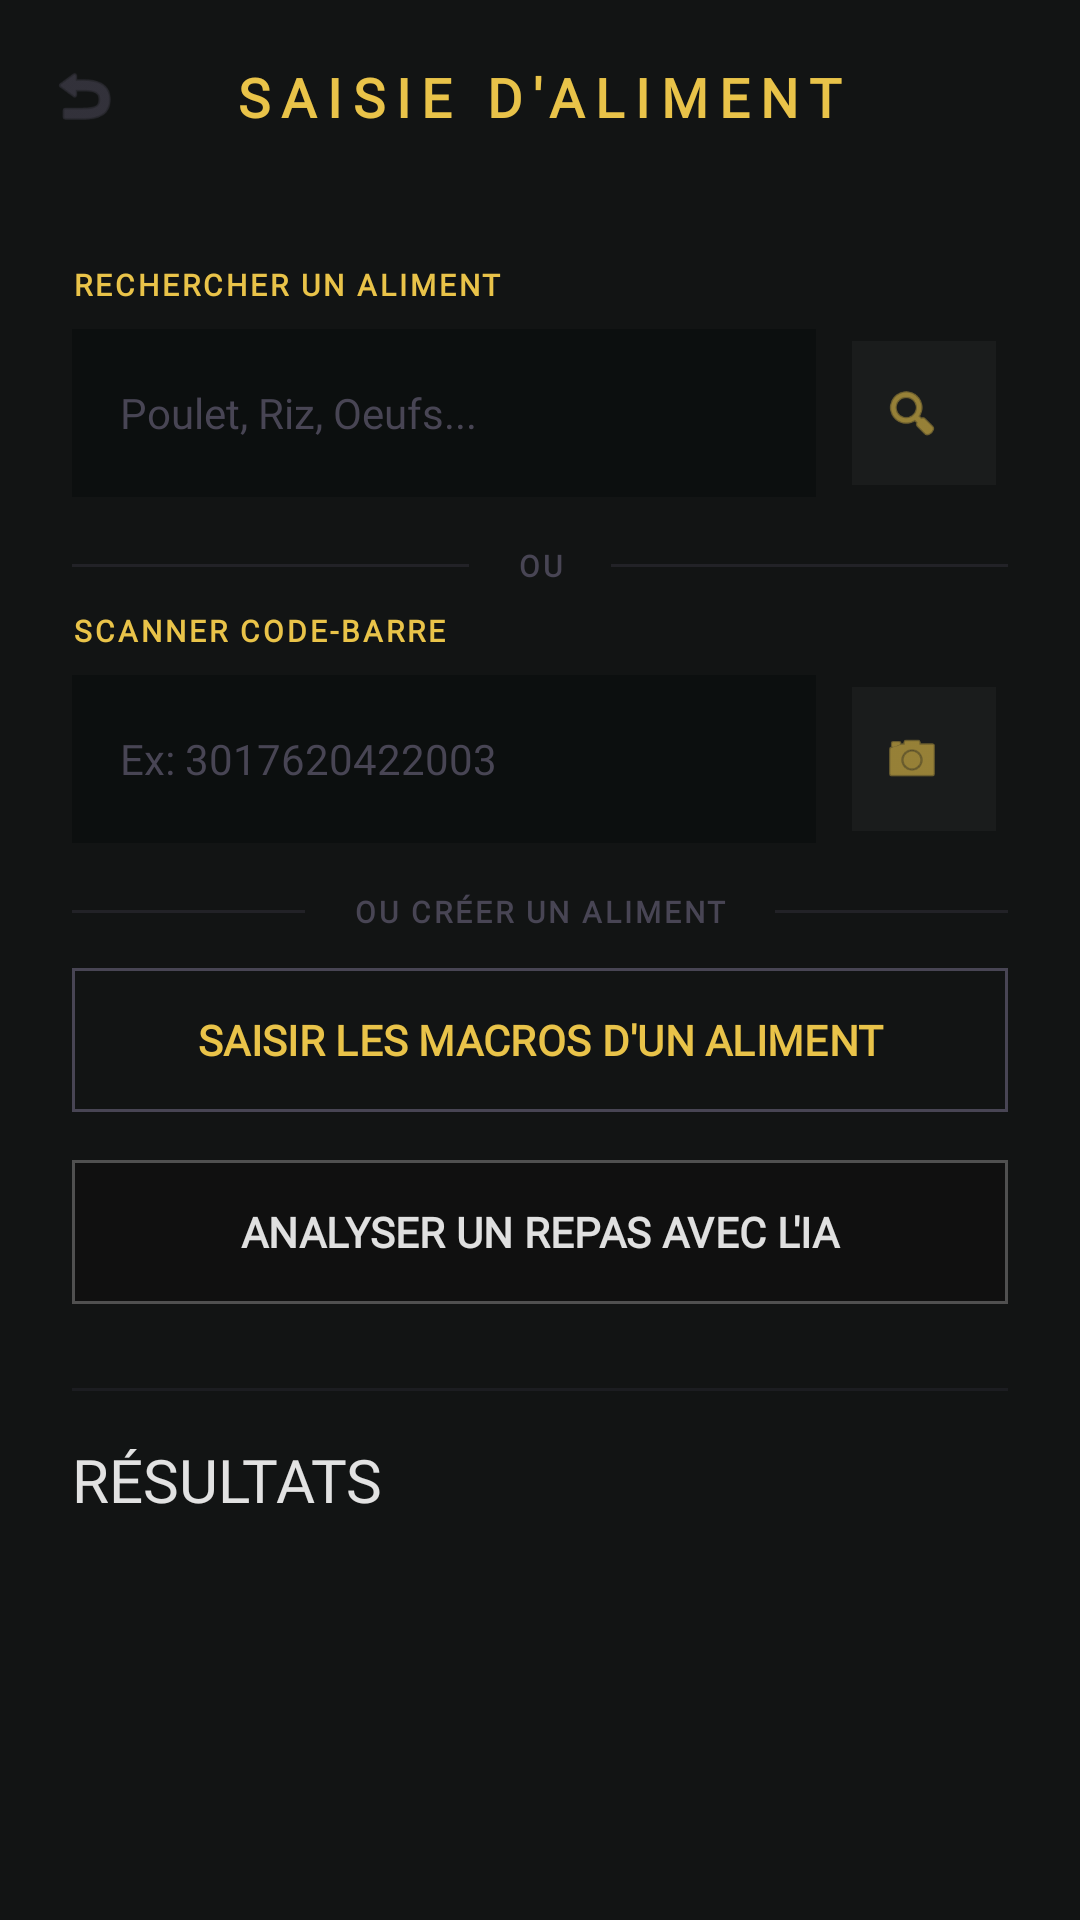

Icon click points for this 1080w x 1920h phone screenshot, format (x=x, y=y):
camera: (x=912, y=758)
revert: (x=85, y=96)
search: (x=912, y=413)
